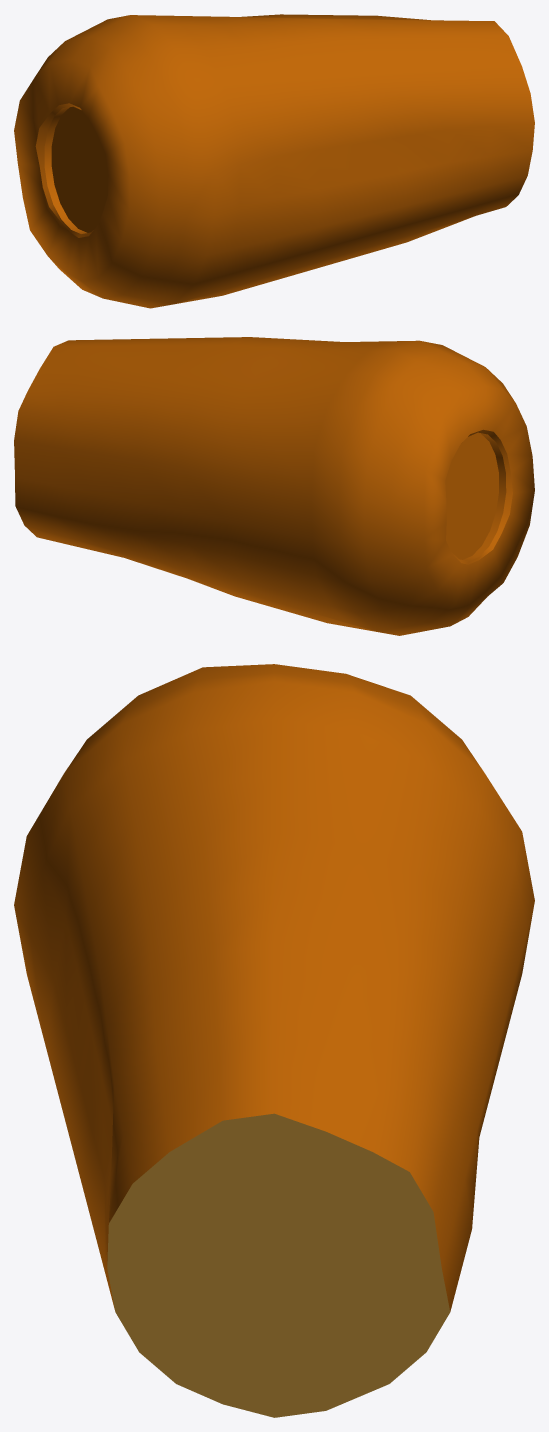
The model's file is mesh_Carrot_Stage07.fbx.
3 renders of one model, top to bottom at view 1: azimuth 30°, elevation 25°; view 2: azimuth 150°, elevation 25°; view 3: azimuth 270°, elevation 25°, orthographic. The views are drawn at different scales.
Visible parts, largest first — view 1: mesh_Carrot_Stage07; view 2: mesh_Carrot_Stage07; view 3: mesh_Carrot_Stage07.
Part boxes in pixels (bbox=[...]): mesh_Carrot_Stage07: bbox=[14, 14, 534, 308]; mesh_Carrot_Stage07: bbox=[14, 337, 534, 635]; mesh_Carrot_Stage07: bbox=[14, 664, 534, 1417].
Size of the model in its own units: 0.086 by 0.0519 by 0.051.
